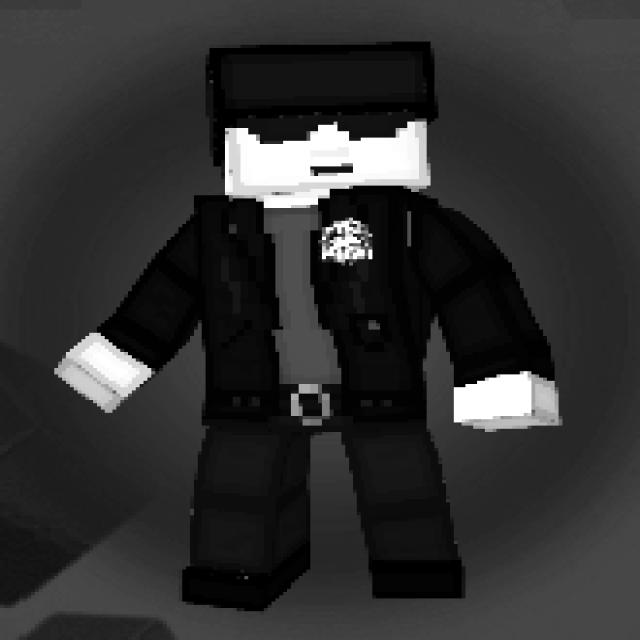Head: (208, 41, 434, 195)
Player: (56, 41, 566, 614)
